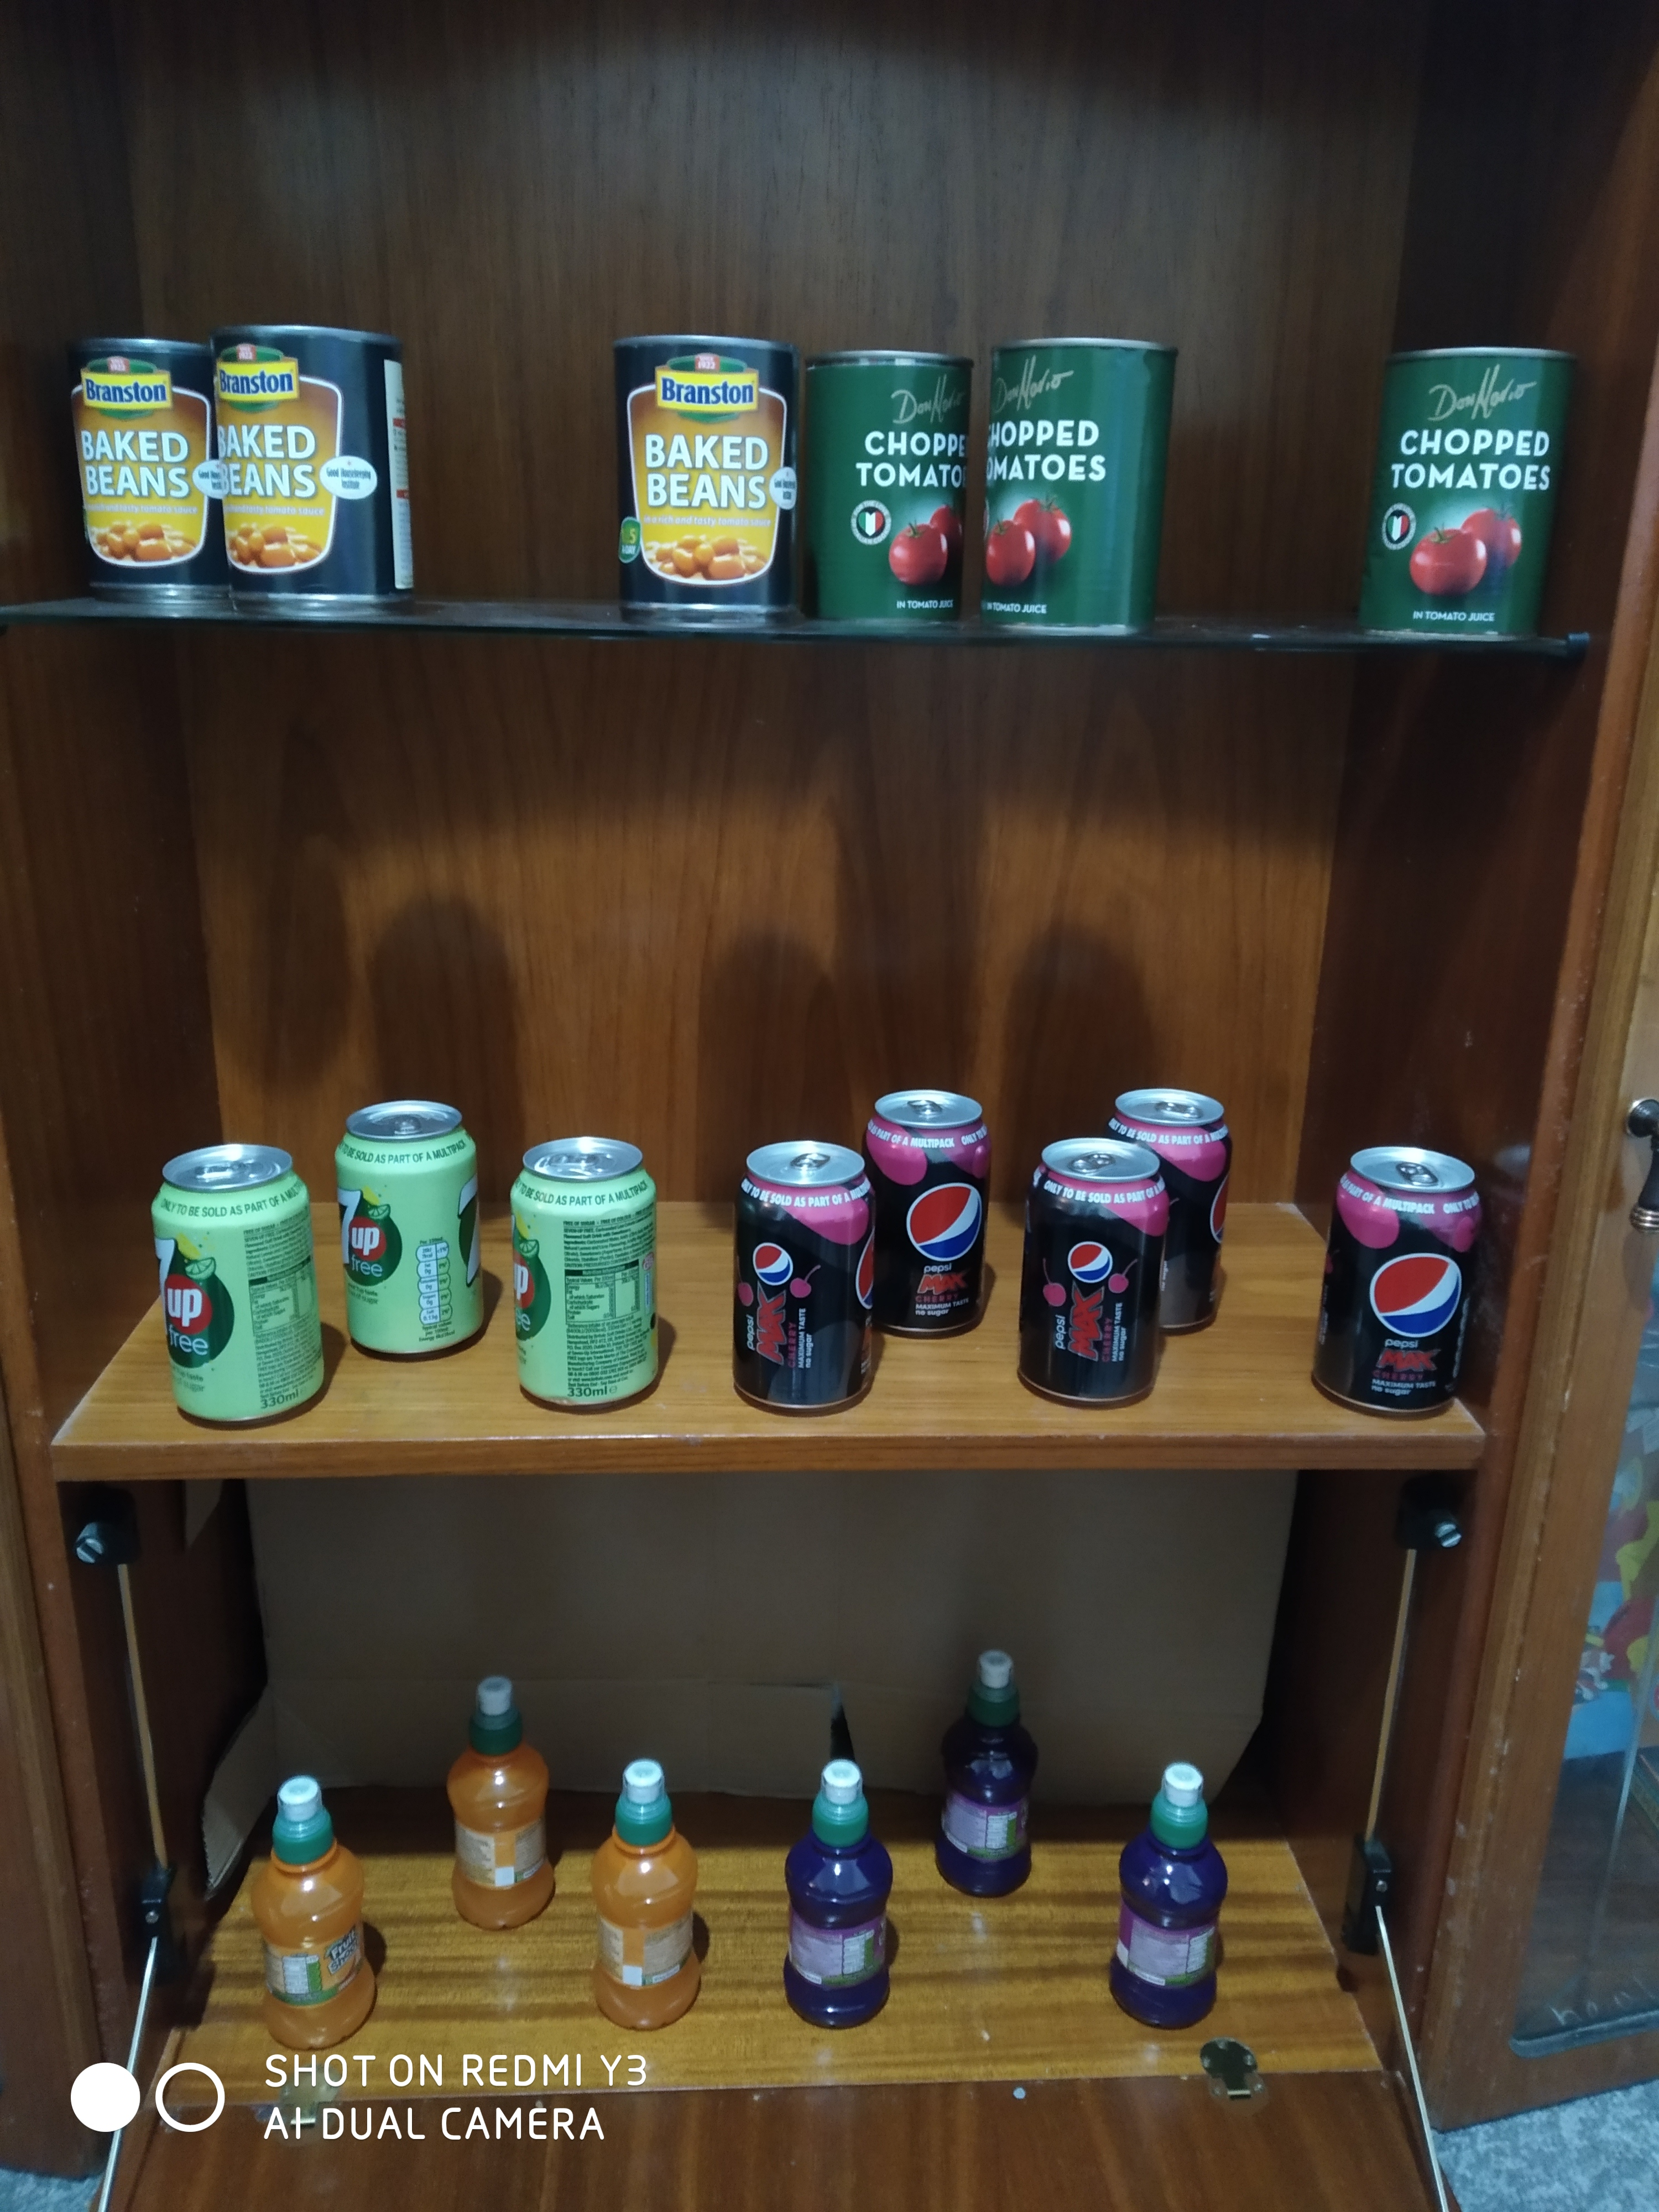beans: (66, 329, 214, 604)
